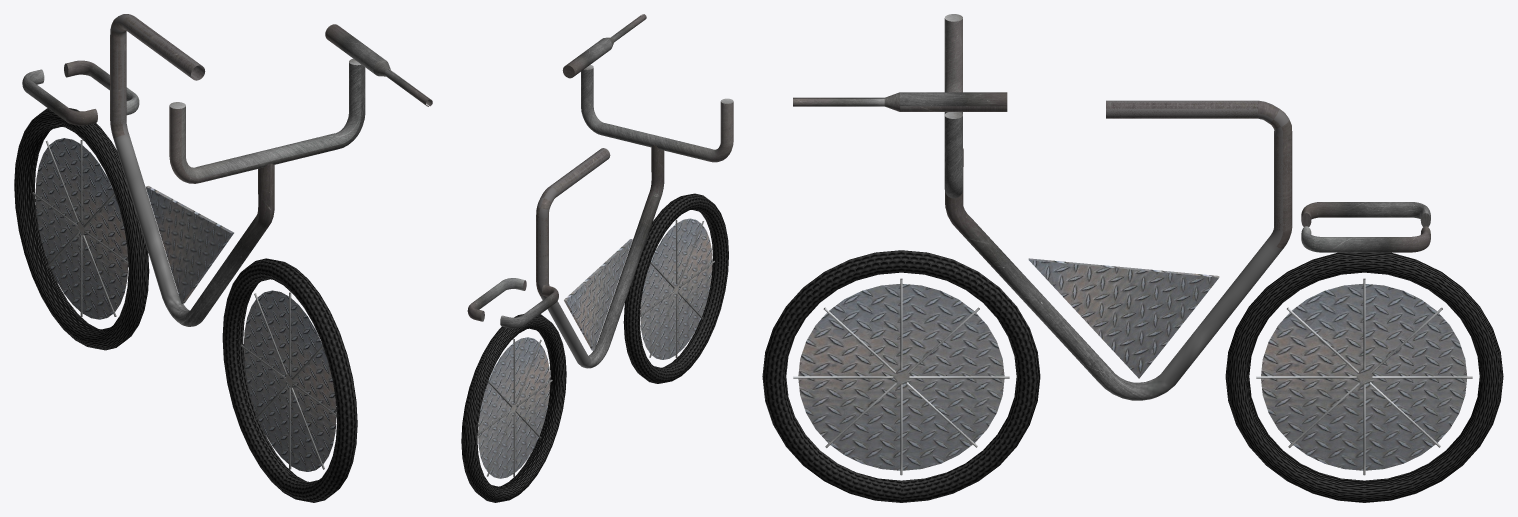
Rendered from bike2.fbx.
The picture shows the model from 3 angles, left to right: view 1: azimuth 30°, elevation 25°; view 2: azimuth 150°, elevation 25°; view 3: azimuth 270°, elevation 25°; orthographic projection. The views are drawn at different scales.
Parts seen in each view (by area): view 1: Cylinder.016, Cylinder.019; view 2: Cylinder.016, Cylinder.019; view 3: Cylinder.016, Cylinder.019.
Part boxes in pixels (x1=…): Cylinder.016: x1=14, y1=14, x2=365, y2=502; Cylinder.019: x1=325, y1=24, x2=432, y2=106; Cylinder.016: x1=461, y1=65, x2=733, y2=502; Cylinder.019: x1=562, y1=14, x2=646, y2=78; Cylinder.016: x1=762, y1=14, x2=1503, y2=502; Cylinder.019: x1=793, y1=92, x2=1007, y2=111.
Size of the model in its own units: 62.7 by 127 by 187.
6 materials, 6 textured.
